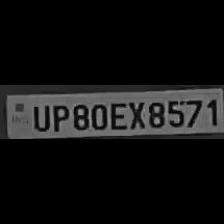0: (89, 100, 107, 130)
1: (201, 97, 219, 127)
5: (166, 96, 184, 128)
7: (184, 96, 202, 128)
8: (70, 101, 90, 131), (146, 98, 164, 128)
E: (108, 98, 127, 130)
P: (50, 102, 68, 132)
U: (28, 102, 50, 132)
X: (126, 99, 144, 129)
